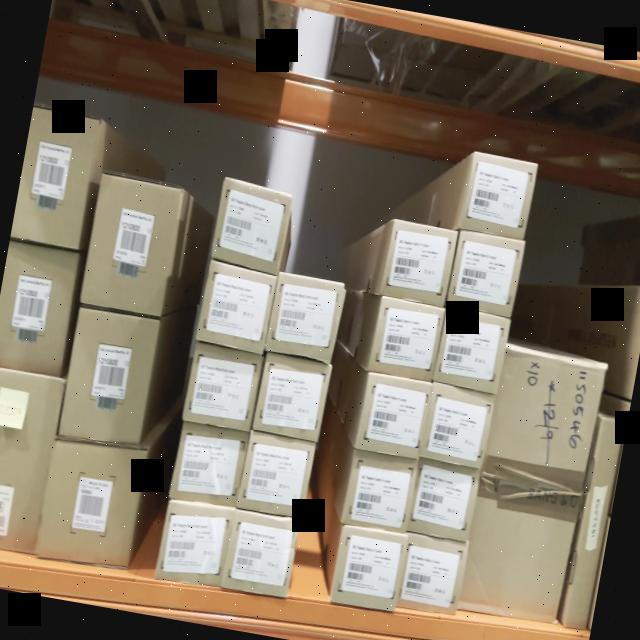box: (462, 342, 603, 620), (34, 436, 150, 574), (58, 303, 164, 448), (80, 172, 184, 315), (562, 418, 627, 634), (11, 106, 100, 242), (0, 369, 62, 556), (0, 239, 81, 382), (209, 176, 294, 276), (251, 348, 331, 447), (156, 496, 237, 588), (196, 263, 275, 356), (429, 304, 511, 392), (170, 420, 250, 510), (357, 370, 435, 460), (329, 524, 410, 610), (462, 150, 539, 240), (267, 272, 347, 358), (380, 218, 460, 304), (422, 381, 497, 472), (184, 342, 262, 426), (344, 448, 422, 532), (368, 294, 444, 378), (240, 433, 314, 517), (450, 234, 526, 315), (224, 510, 298, 591), (408, 462, 481, 540), (396, 539, 468, 618)
